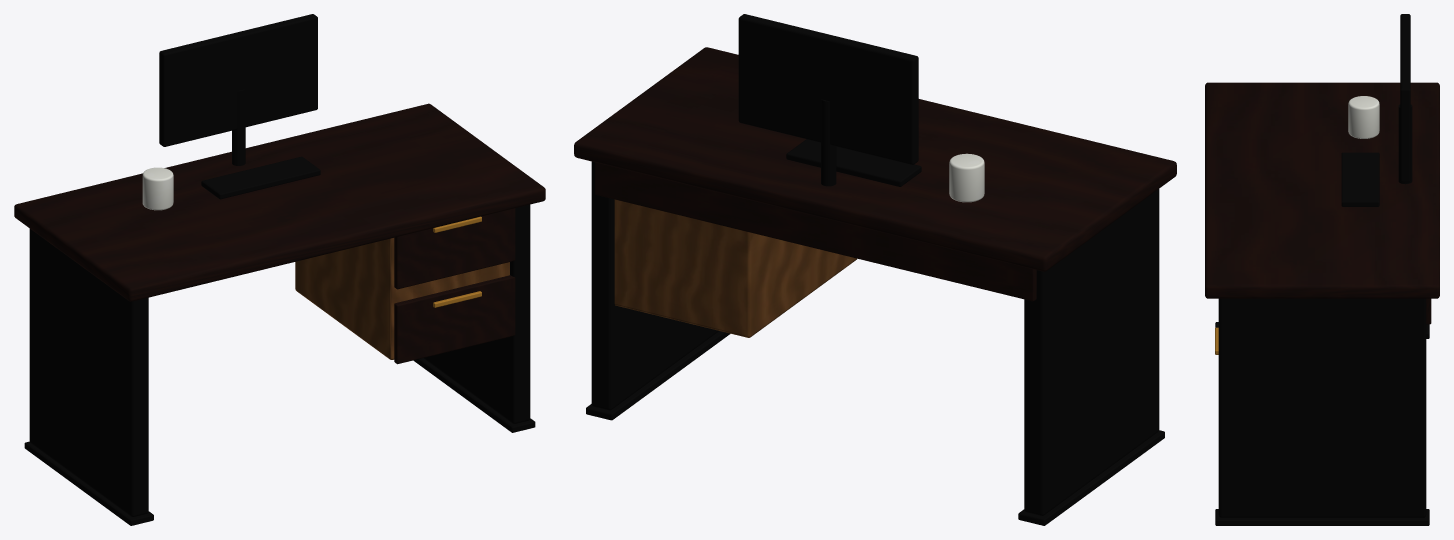
The model's file is razoredge-modern-desk.glb.
3 views of the same model, side by side, from view 1: azimuth 30°, elevation 25°; view 2: azimuth 150°, elevation 25°; view 3: azimuth 270°, elevation 25° (orthographic). The views are drawn at different scales.
Parts seen in each view (by area): view 1: top, leg_frame, monitor, drawer_body, leg_frame.001, drawer_front_0, drawer_front_1, keyboard, foot, mug, foot.001, monitor_stand; view 2: top, leg_frame, drawer_body, monitor, back_apron, leg_frame.001, keyboard, foot, mug, foot.001, monitor_stand; view 3: top, leg_frame.001, keyboard, foot.001, monitor, mug, monitor_stand.
Part boxes in pixels (bbox=[...]): top: bbox=[14, 103, 545, 301]; leg_frame: bbox=[29, 228, 148, 516]; monitor: bbox=[159, 14, 317, 146]; drawer_body: bbox=[295, 238, 509, 359]; leg_frame.001: bbox=[423, 204, 530, 423]; drawer_front_0: bbox=[394, 275, 515, 364]; drawer_front_1: bbox=[394, 208, 515, 289]; keyboard: bbox=[201, 156, 320, 199]; foot: bbox=[24, 441, 153, 525]; mug: bbox=[142, 167, 173, 210]; foot.001: bbox=[413, 358, 535, 432]; monitor_stand: bbox=[232, 89, 245, 165]; top: bbox=[574, 47, 1176, 271]; leg_frame: bbox=[1024, 189, 1159, 515]; drawer_body: bbox=[614, 199, 856, 337]; monitor: bbox=[738, 14, 918, 164]; back_apron: bbox=[595, 162, 1036, 301]; leg_frame.001: bbox=[591, 161, 718, 410]; keyboard: bbox=[786, 139, 921, 186]; foot: bbox=[1018, 430, 1164, 525]; mug: bbox=[949, 153, 984, 202]; foot.001: bbox=[586, 331, 730, 420]; monitor_stand: bbox=[821, 99, 836, 186]; top: bbox=[1205, 82, 1439, 298]; leg_frame.001: bbox=[1218, 298, 1426, 517]; keyboard: bbox=[1341, 152, 1379, 206]; foot.001: bbox=[1215, 509, 1429, 525]; monitor: bbox=[1400, 14, 1410, 182]; mug: bbox=[1348, 96, 1379, 138]; monitor_stand: bbox=[1398, 104, 1412, 184].
Bounding box in the file's own units: 1.4 × 1.2 × 0.6799.
5 materials, 4 textured.
